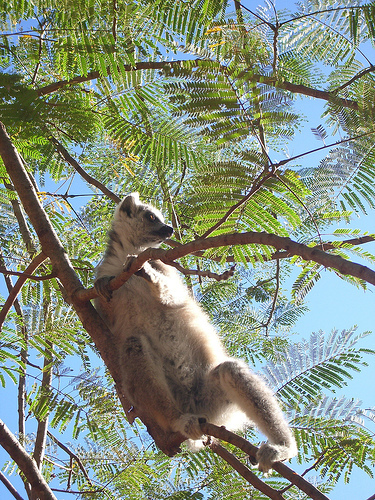cat: (83, 190, 302, 471)
